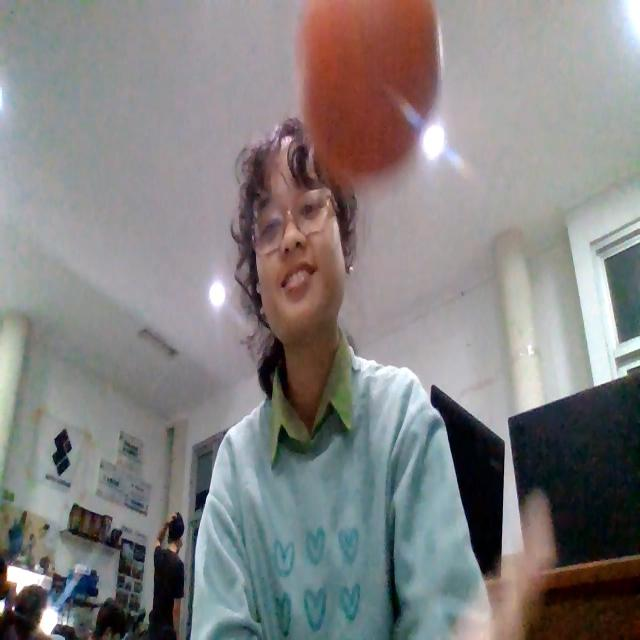ball: (303, 0, 443, 167)
